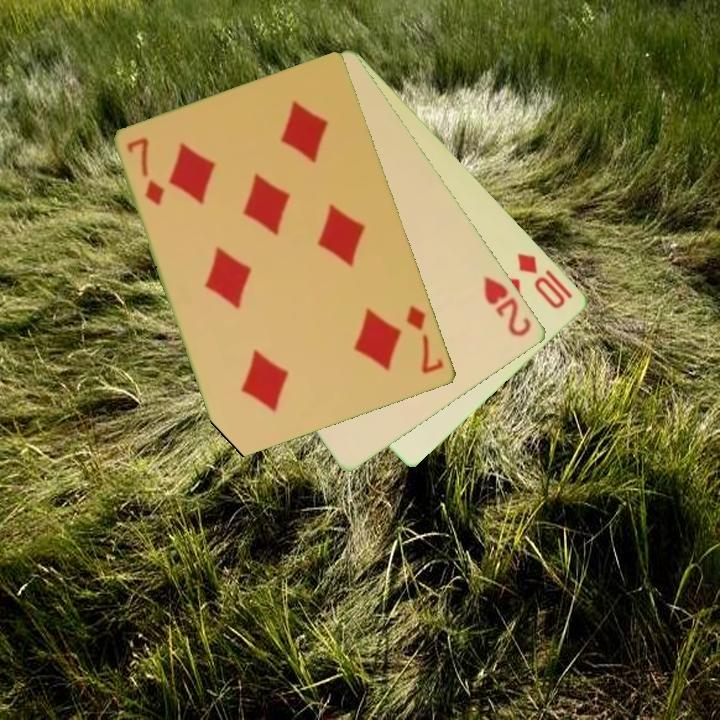10d: (514, 249, 569, 313)
2h: (480, 272, 535, 340)
7d: (123, 134, 168, 209), (403, 302, 447, 377)
